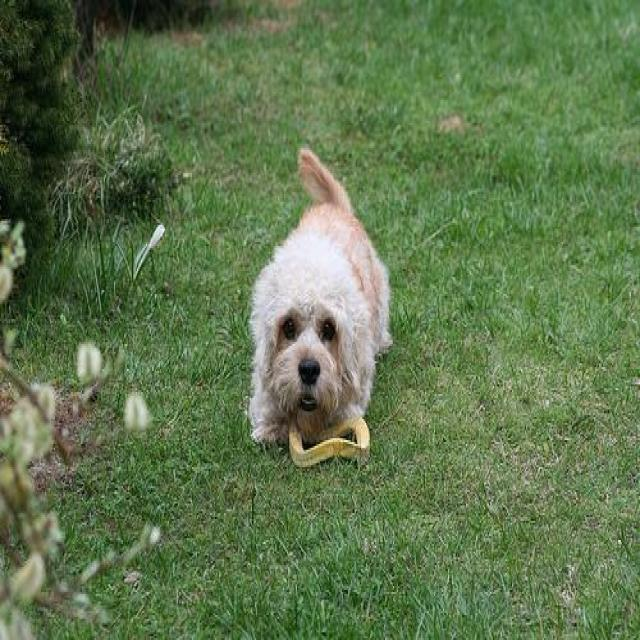dandie_dinmont: (244, 146, 394, 469)
